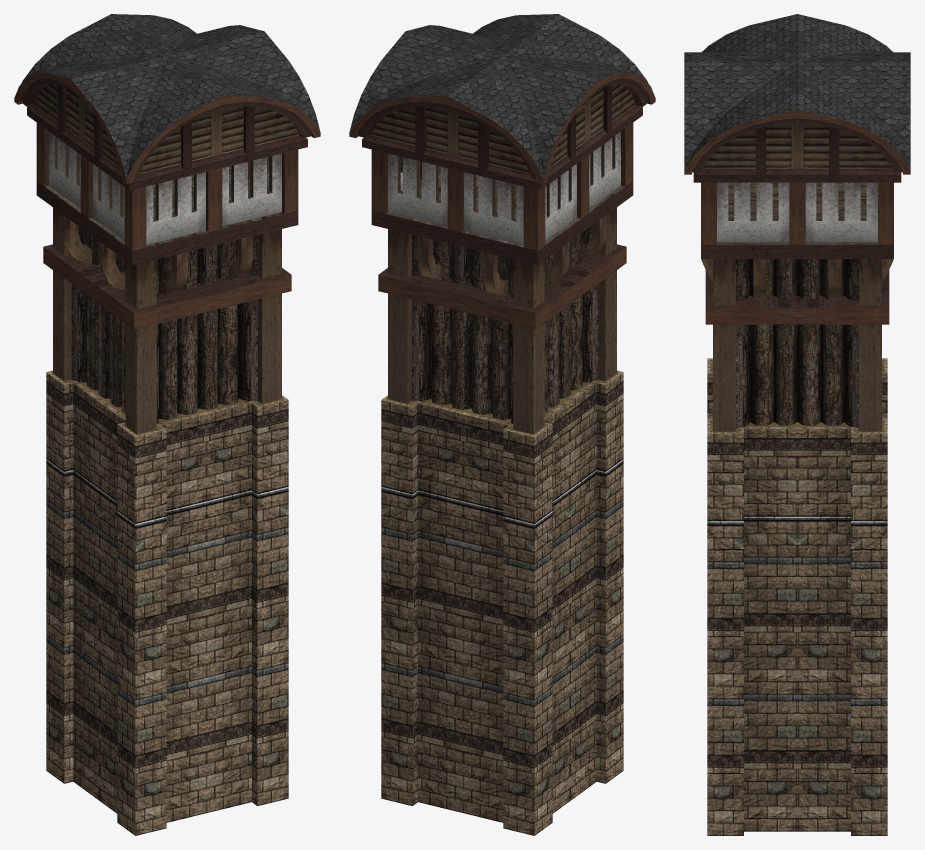
Rendered from maur_tower.glb.
The picture shows the model from 3 angles, left to right: view 1: azimuth 30°, elevation 25°; view 2: azimuth 150°, elevation 25°; view 3: azimuth 270°, elevation 25°; orthographic projection.
Visible parts, largest first — view 1: maur_tower_part0, maur_tower_part3, maur_tower_part2; view 2: maur_tower_part0, maur_tower_part3, maur_tower_part2; view 3: maur_tower_part0, maur_tower_part3, maur_tower_part2.
Part boxes in pixels (<box>): maur_tower_part0: <box>46,370,288,835</box>; maur_tower_part3: <box>14,14,320,434</box>; maur_tower_part2: <box>71,226,257,423</box>; maur_tower_part0: <box>381,370,623,835</box>; maur_tower_part3: <box>349,14,655,434</box>; maur_tower_part2: <box>412,226,598,423</box>; maur_tower_part0: <box>707,358,887,835</box>; maur_tower_part3: <box>684,14,910,431</box>; maur_tower_part2: <box>736,259,858,427</box>.
Bounding box in the file's own units: 2.2 × 7.9 × 2.2.
Materials: 4 (4 with a texture image).
